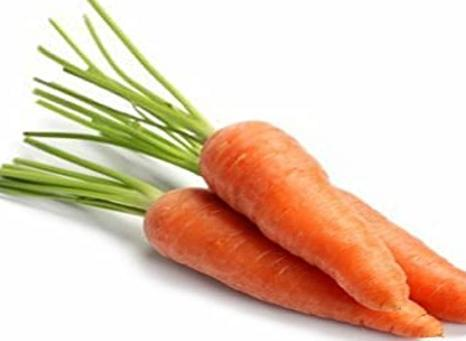carrot: (133, 119, 466, 335), (201, 134, 466, 336)
